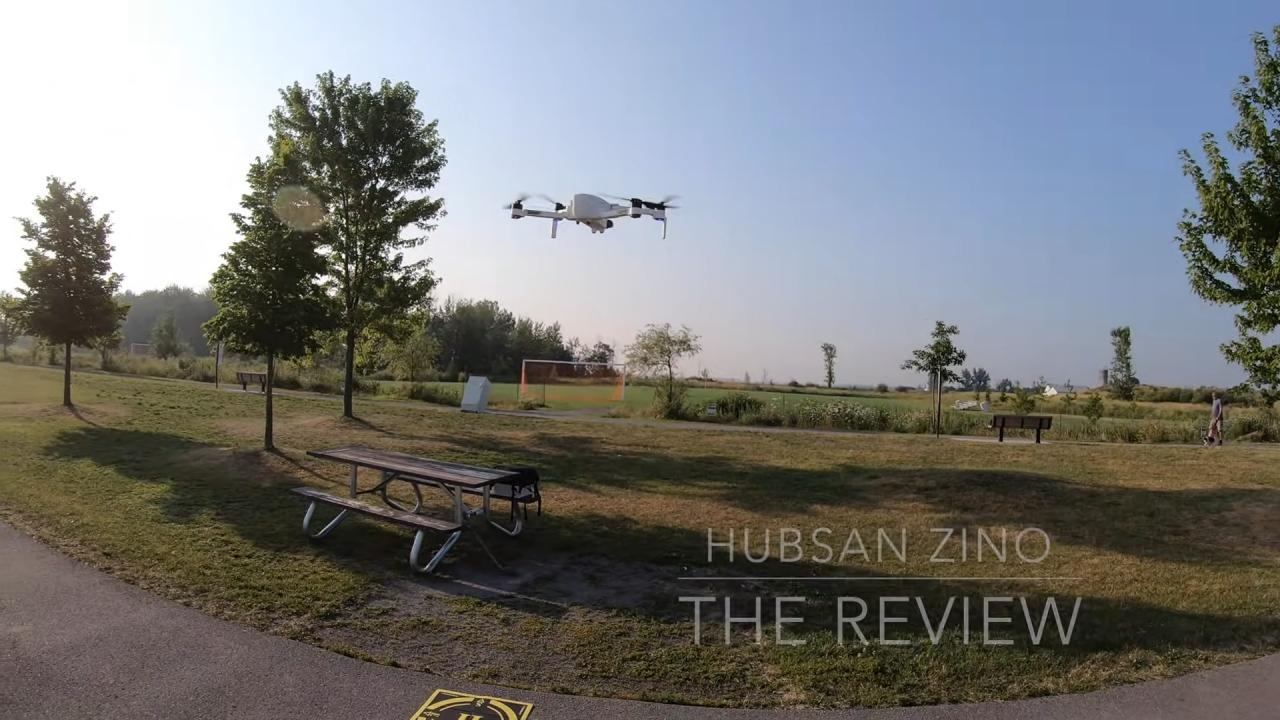Drone: (488, 173, 697, 250)
